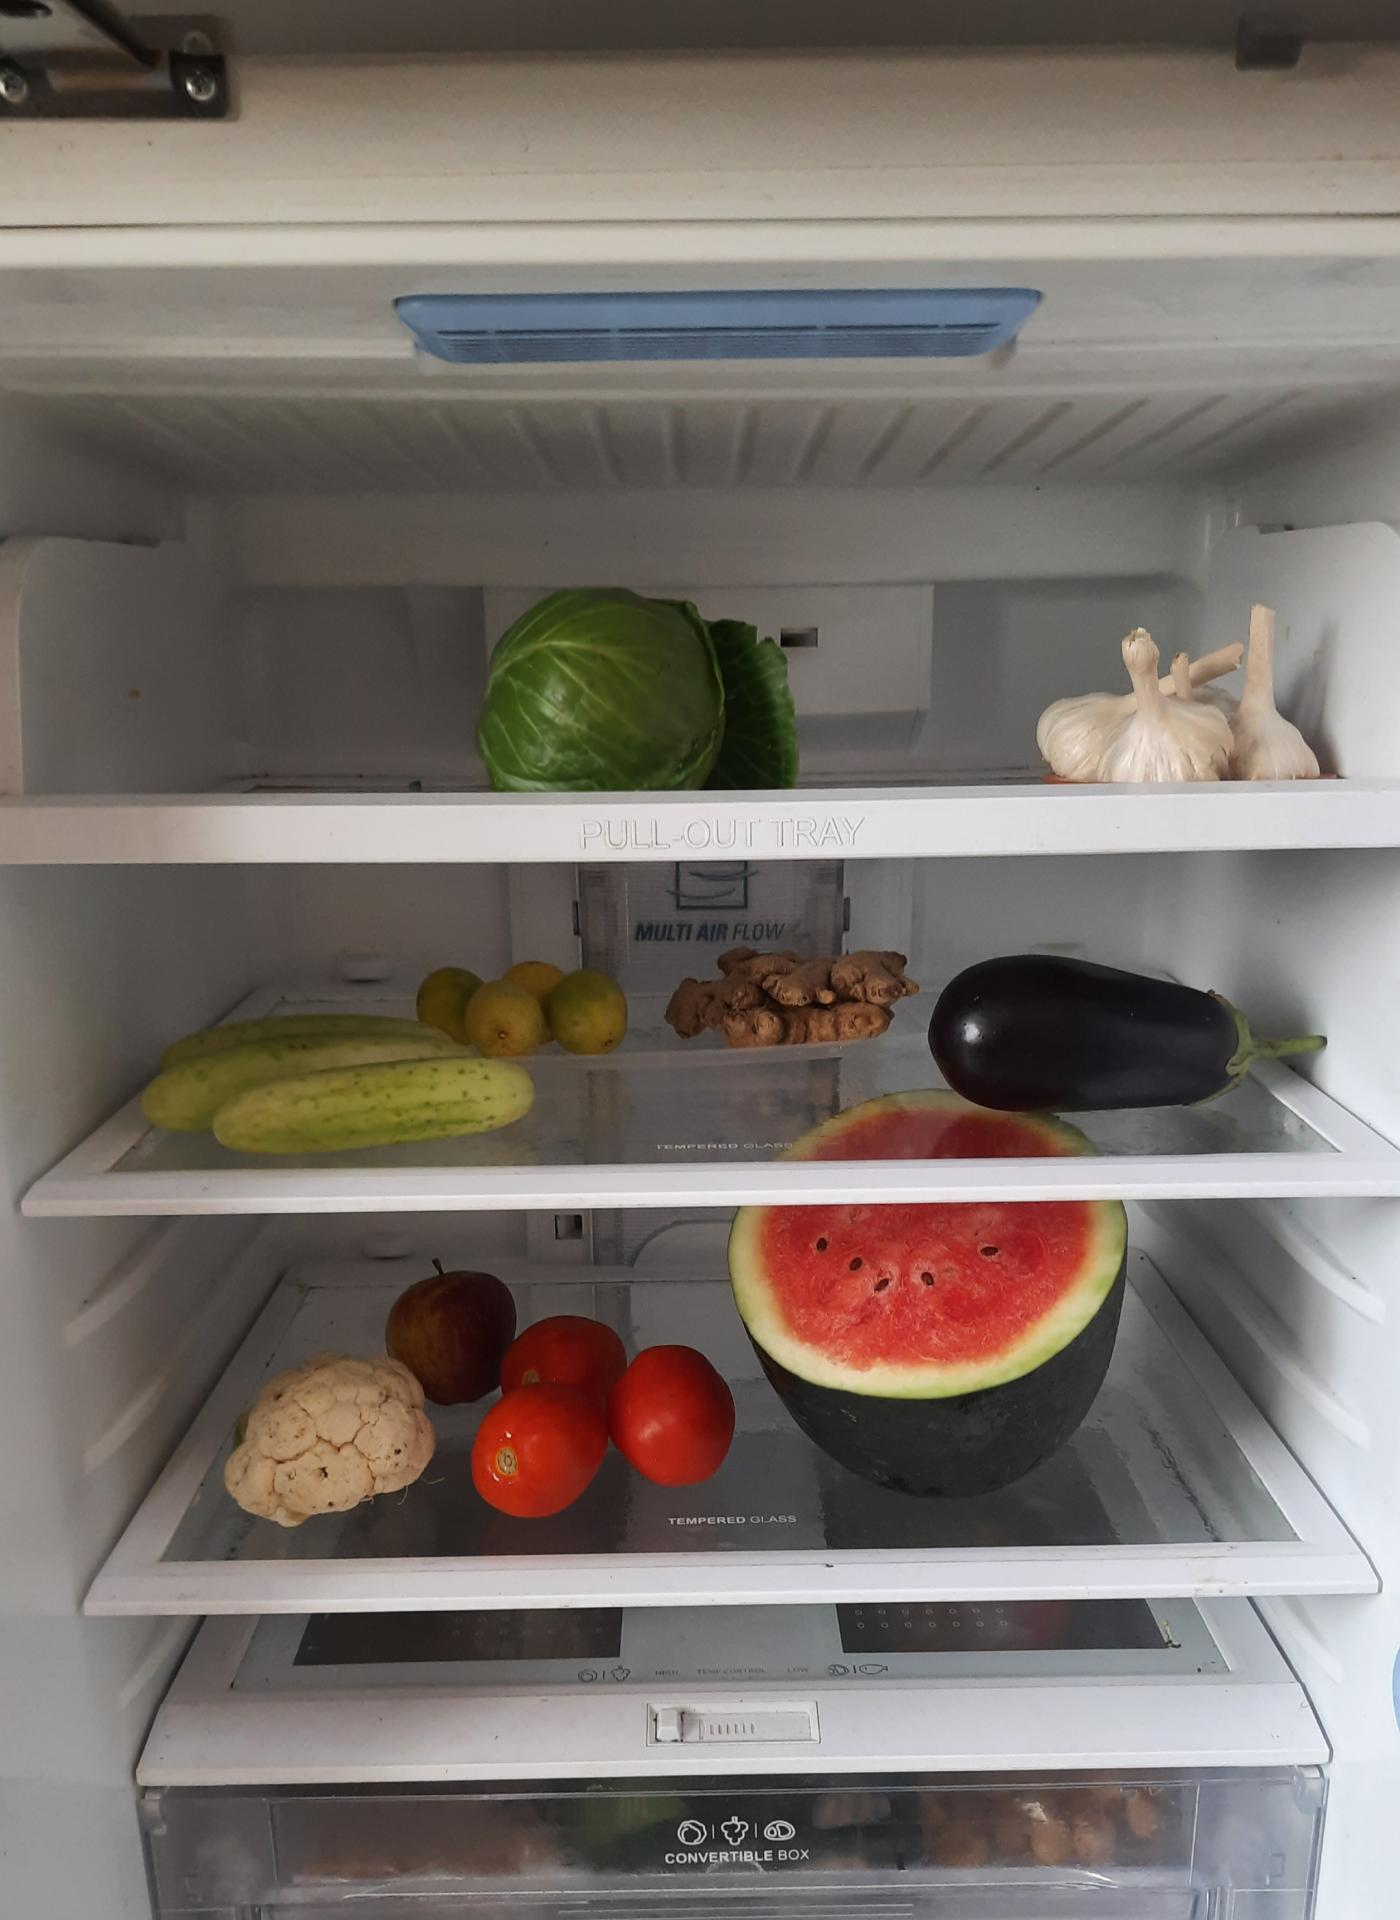apple: (382, 1266, 523, 1409)
brinjal: (929, 953, 1284, 1118)
cabbage: (470, 590, 781, 790)
cauliflower: (212, 1346, 440, 1534)
cucumber: (130, 1012, 540, 1149)
garlic: (1030, 599, 1340, 803)
ginger: (660, 941, 908, 1054)
lemon: (417, 947, 629, 1055)
tomato: (477, 1297, 742, 1516)
watermelon: (732, 1097, 1139, 1494)
